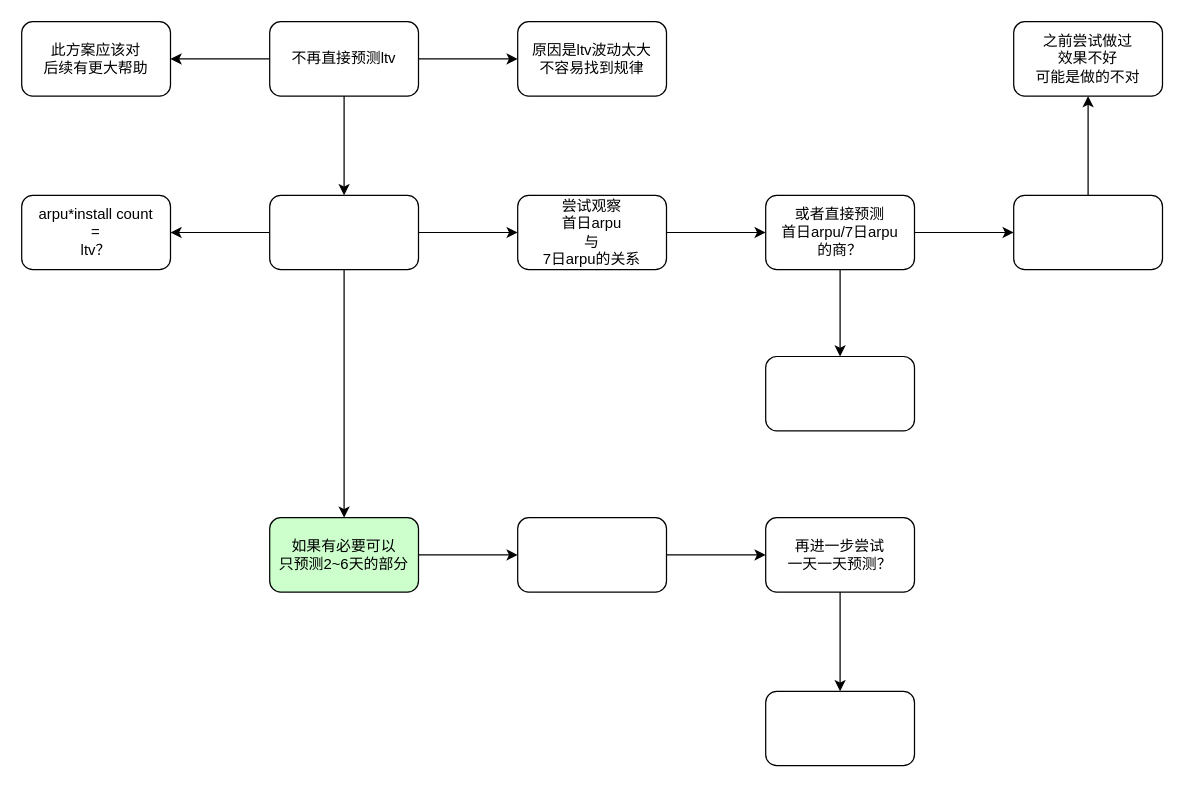
Image size: 1184x787. Some labels were removed from this diagram. Each missing label, with the centre of its shape:
"可以尝试对参数 进行标准化" belongs at pixel 1087 232.
"可能不是一个好主意 但是应该可以有效地逐渐增加精度" belongs at pixel 839 728.
"这个值应该比较小，可以尝试用mse这种loss" belongs at pixel 839 393.
"这应该会 减少一些误差" belongs at pixel 591 554.
"预测arpu" belongs at pixel 343 232.
